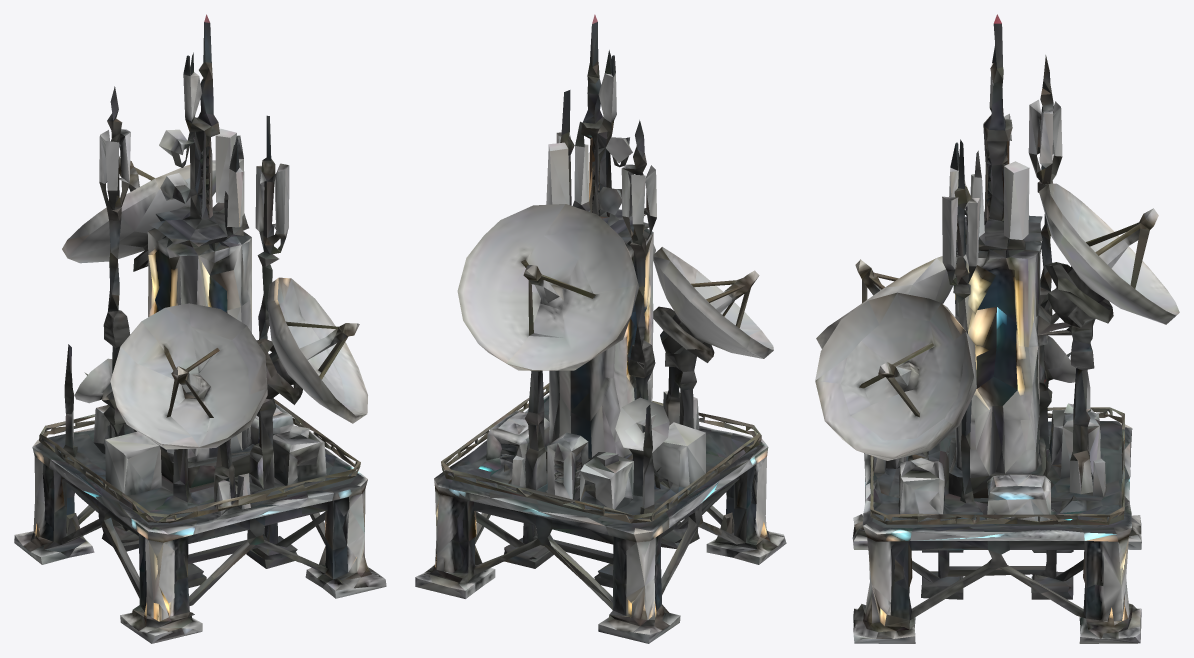
The model's file is antenna_array.glb.
3 views of the same model, side by side, from view 1: azimuth 30°, elevation 25°; view 2: azimuth 150°, elevation 25°; view 3: azimuth 270°, elevation 25° (orthographic). The views are drawn at different scales.
Visible parts, largest first — view 1: antenna_array; view 2: antenna_array; view 3: antenna_array.
Boxes of the visible parts, x1,y1,x2,y2 form: antenna_array: (14,14,386,643); antenna_array: (415,14,786,643); antenna_array: (815,14,1179,643).
Bounding box in the file's own units: 3.79 × 7.99 × 4.61.
Materials: 1 (1 with a texture image).
